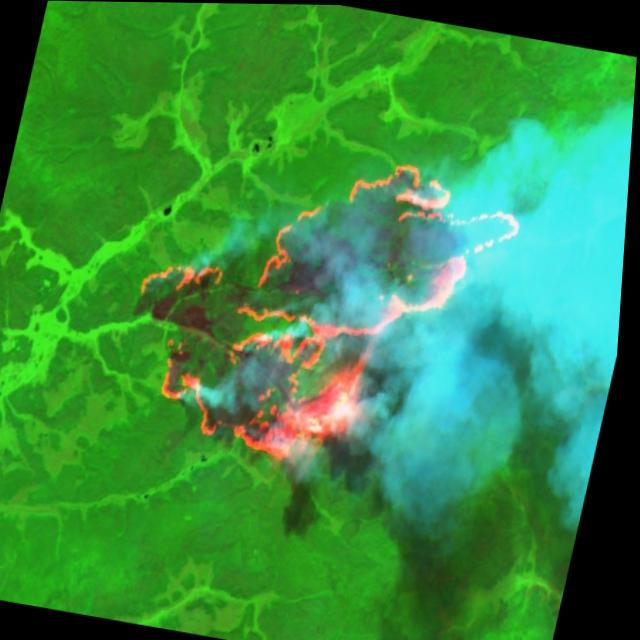fire: (105, 103, 543, 498)
